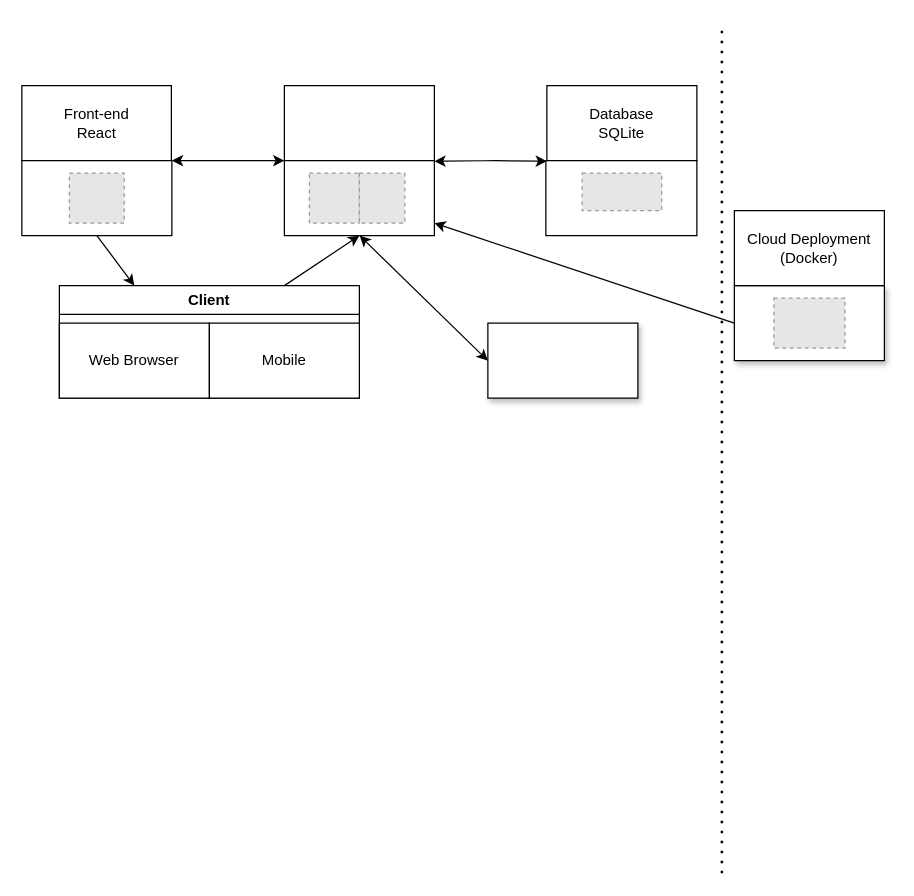
Image size: 914x896. Some labels were removed from this diagram. Grey dashed boxes stand in for pictures. The shapes that lost their labels are listed below. From the top down, each one's centre as x and y in pixels, then its label:
At [358,122]: "Back-end API Python Flask".
At [563,362]: "API Request/Response".
